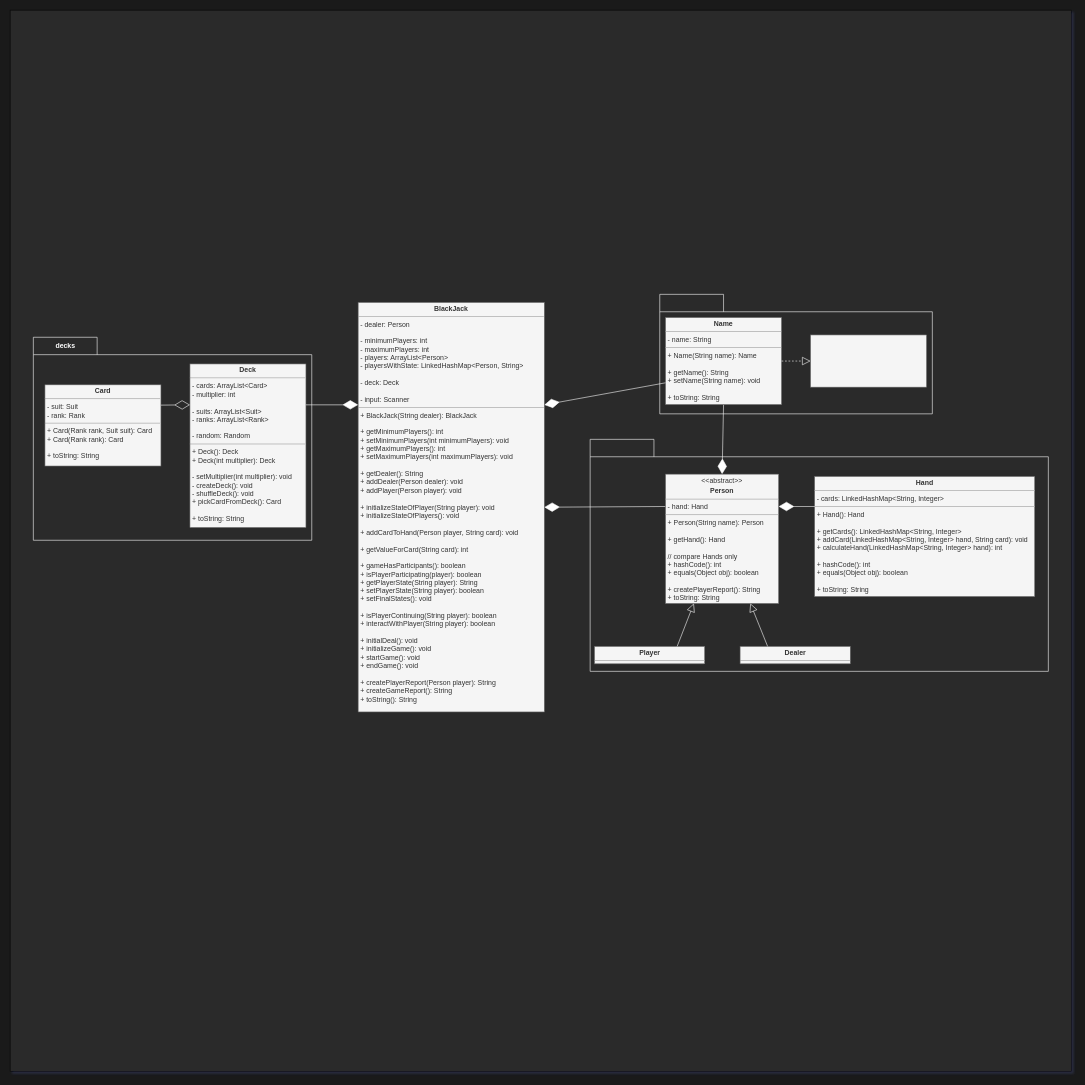
Some shapes in this 1085 by 1085 pixel diagram are drawn without their labels. Each missing label, with the box of its shape:
<<interface>> Nameable + getName() + setName(): (810, 334, 927, 387)
actors: (590, 439, 1048, 671)
utils: (659, 294, 932, 414)
